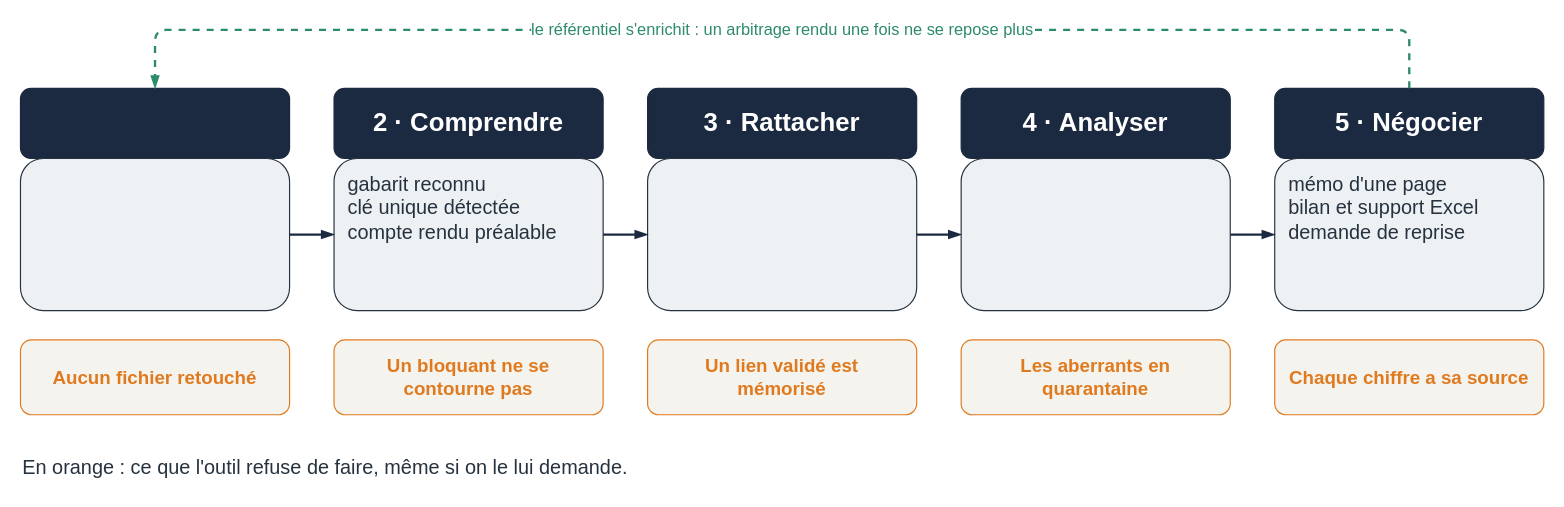
The diagram is 1564 pixels wide and 507 high, and some of its shapes have lost their labels. The centre of each missing label's shape, as x and y in pixels:
"1 · Déposer" belongs at (x=154, y=123).
"cascade automatique vers les références ERP arbitrage humain si doute" belongs at (x=781, y=234).
"fichier reçu tel quel empreinte, archivage doublon refusé" belongs at (x=154, y=234).
"hausse pondérée volumes impact annualisé, Pareto remises, plafonds, marchés" belongs at (x=1095, y=234).
